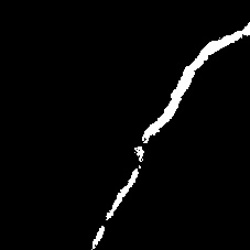crack: (145, 25, 248, 144), (107, 166, 140, 220), (92, 226, 105, 247), (133, 144, 143, 163)
